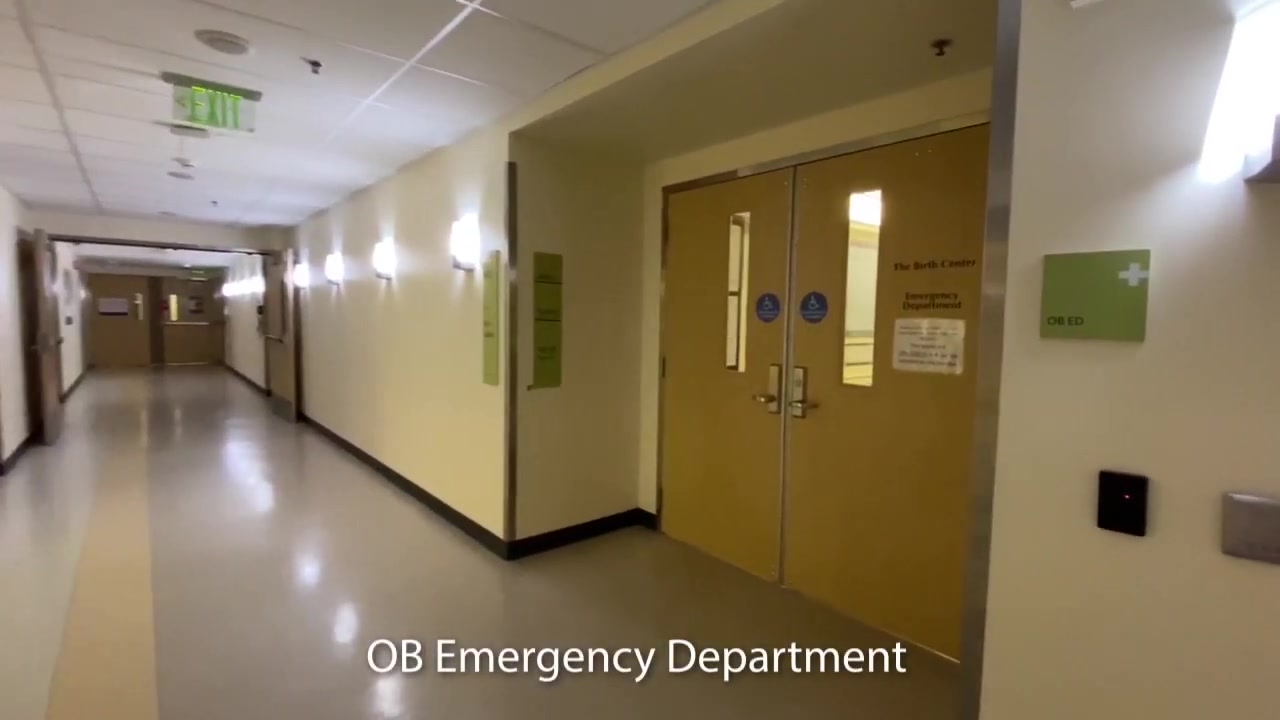door_handle: (750, 362, 782, 415), (789, 365, 816, 418)
press_to_open: (1217, 490, 1280, 561)
push_latch: (167, 321, 211, 328)
